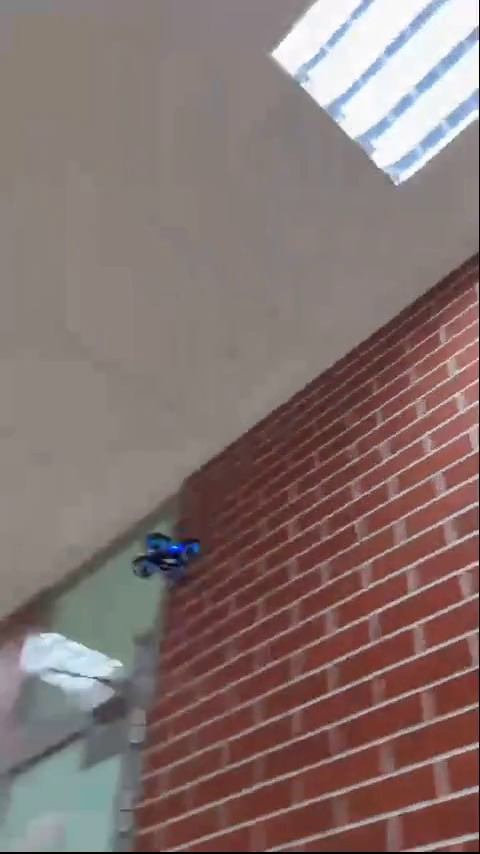drone: (129, 529, 198, 577)
